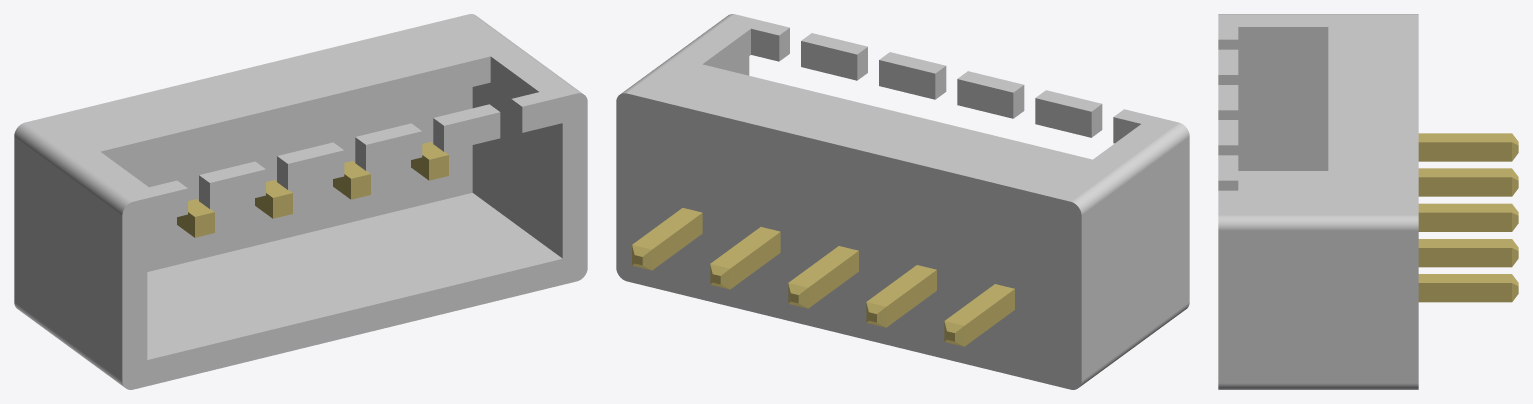
The model's file is jst_xh_5pin.glb.
3 renders of one model, left to right at view 1: azimuth 30°, elevation 25°; view 2: azimuth 150°, elevation 25°; view 3: azimuth 270°, elevation 25°, orthographic. The views are drawn at different scales.
Parts seen in each view (by area): view 1: world; view 2: world; view 3: world.
Boxes of the visible parts, x1=… form: world: x1=14, y1=14, x2=587, y2=389; world: x1=616, y1=14, x2=1189, y2=389; world: x1=1218, y1=14, x2=1518, y2=389.
Size of the model in its own units: 14.9 by 5.75 by 9.
